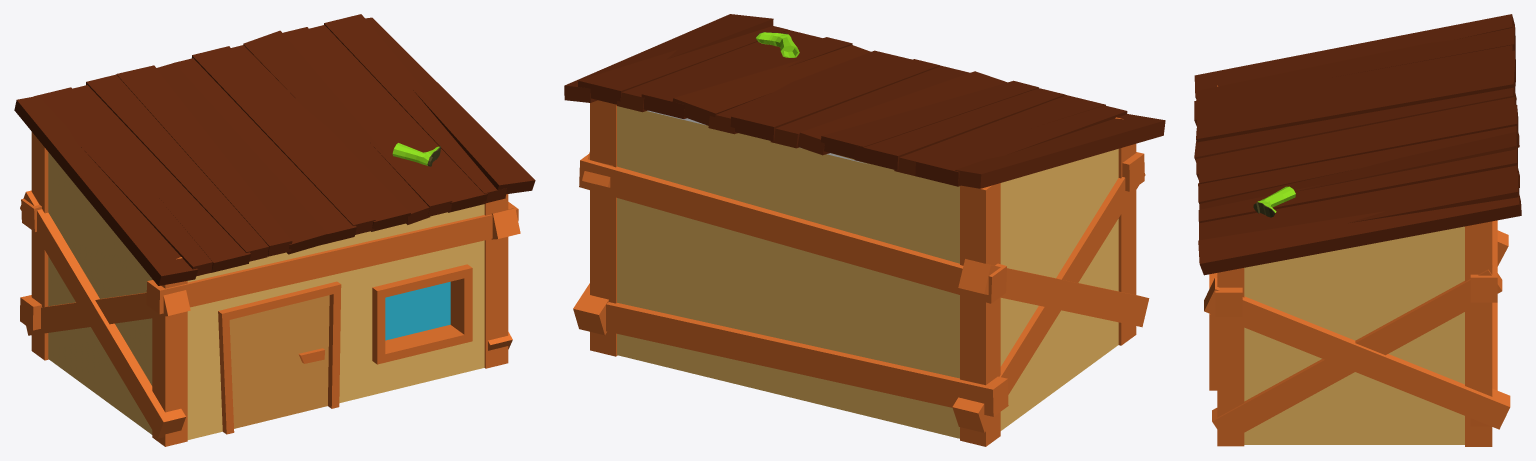
The model's file is Barn (1).fbx.
3 views of the same model, side by side, from view 1: azimuth 30°, elevation 25°; view 2: azimuth 150°, elevation 25°; view 3: azimuth 270°, elevation 25° (orthographic). The views are drawn at different scales.
Parts seen in each view (by area): view 1: Plane, Cube.022, Cube, Cube.007, Cube.004, Cube.009, Cube.001, Cube.003, Cube.027, Cube.005, Cube.012, Cube.002 (+12 smaller); view 2: Plane, Cube.023, Cube.024, Cube.021, Cube, Cube.028, Cube.027, Cube.020, Cube.007, Cube.004, Cube.001, Cube.009 (+13 smaller); view 3: Plane, Cube.013, Cube.025, Cube.026, Cube.004, Cube.007, Cube, Cube.001, Cube.010, Cube.020, Cube.008, Cube.005 (+11 smaller).
Part boxes in pixels (x1,y1,x2,y2): Plane: (48,152,484,439); Cube.022: (146,202,518,314); Cube: (14,95,198,285); Cube.007: (192,46,375,234); Cube.004: (116,65,292,256); Cube.009: (243,30,429,224); Cube.001: (34,87,212,276); Cube.003: (86,74,268,261); Cube.027: (20,190,185,438); Cube.005: (156,63,327,254); Cube.012: (324,14,506,203); Cube.002: (73,85,250,272); Plane: (617,106,1118,438); Cube.023: (579,154,1006,303); Cube.024: (606,302,1008,416); Cube.021: (960,183,1000,446); Cube: (955,114,1165,188); Cube.028: (952,173,1145,432); Cube.027: (958,259,1149,327); Cube.020: (590,100,617,356); Cube.007: (730,59,940,141); Cube.004: (821,80,1038,159); Cube.001: (915,105,1127,186); Cube.009: (672,45,870,125); Plane: (1209,226,1464,444); Cube.013: (1198,191,1521,275); Cube.025: (1204,277,1510,429); Cube.026: (1212,265,1502,442); Cube.004: (1196,65,1515,142); Cube.007: (1199,105,1518,184); Cube: (1194,14,1515,98); Cube.001: (1196,25,1515,100); Cube.010: (1198,144,1517,223); Cube.020: (1465,221,1492,446); Cube.008: (1198,126,1519,203); Cube.005: (1194,87,1516,162).
Bounding box in the file's own units: 335 × 211 × 242.
